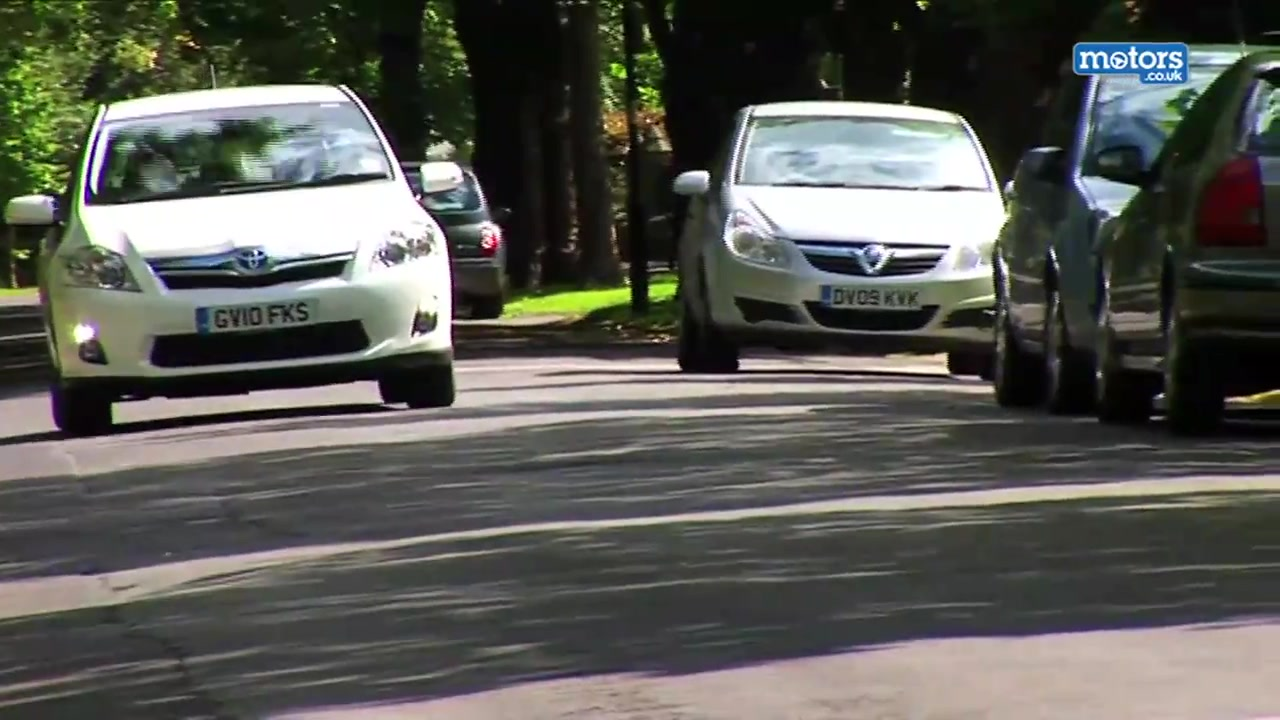car: (8, 86, 467, 431), (993, 35, 1280, 413), (661, 95, 1015, 382), (1094, 51, 1280, 423), (386, 158, 509, 322)
